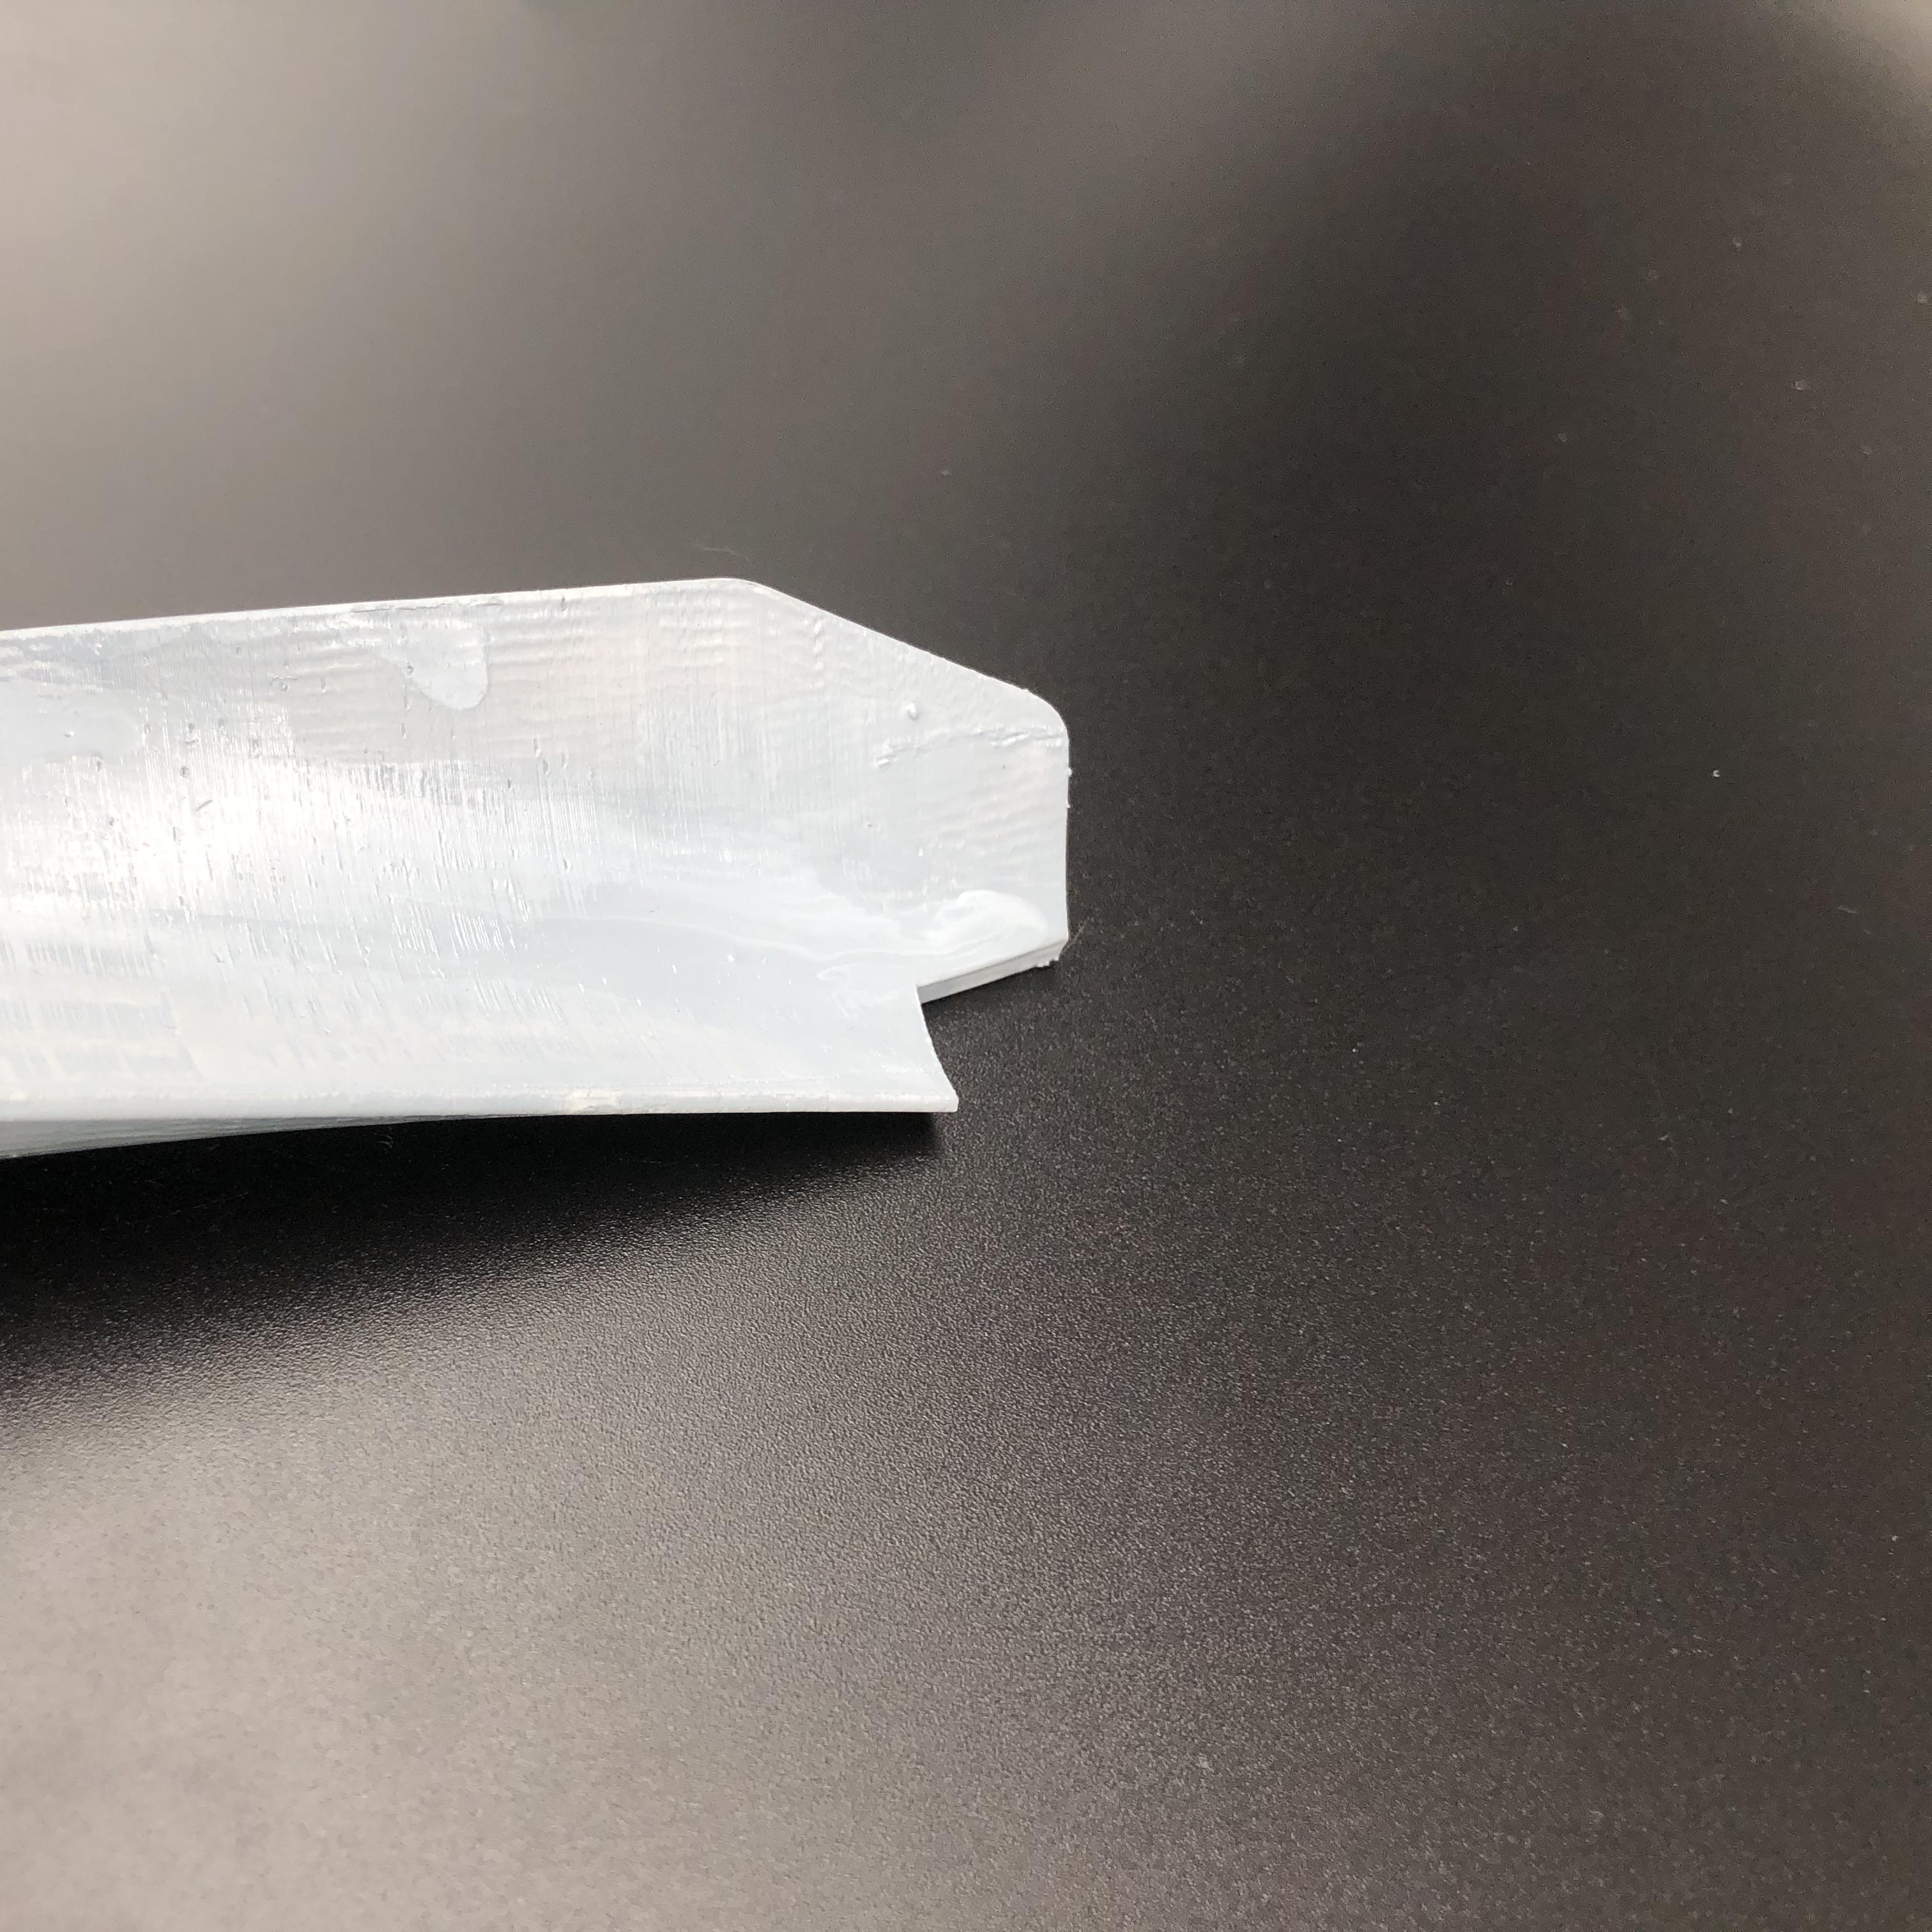fracture: (915, 954, 1039, 1115)
